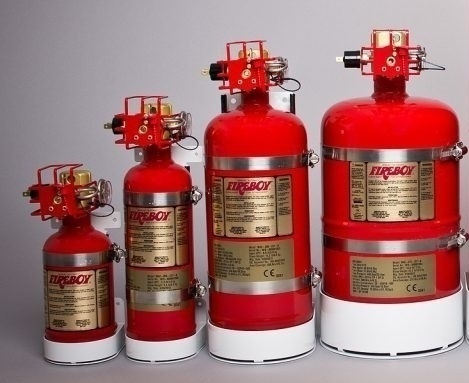fire_extinguisher: (319, 28, 469, 360), (202, 39, 321, 365), (104, 94, 207, 364), (22, 163, 125, 366)
